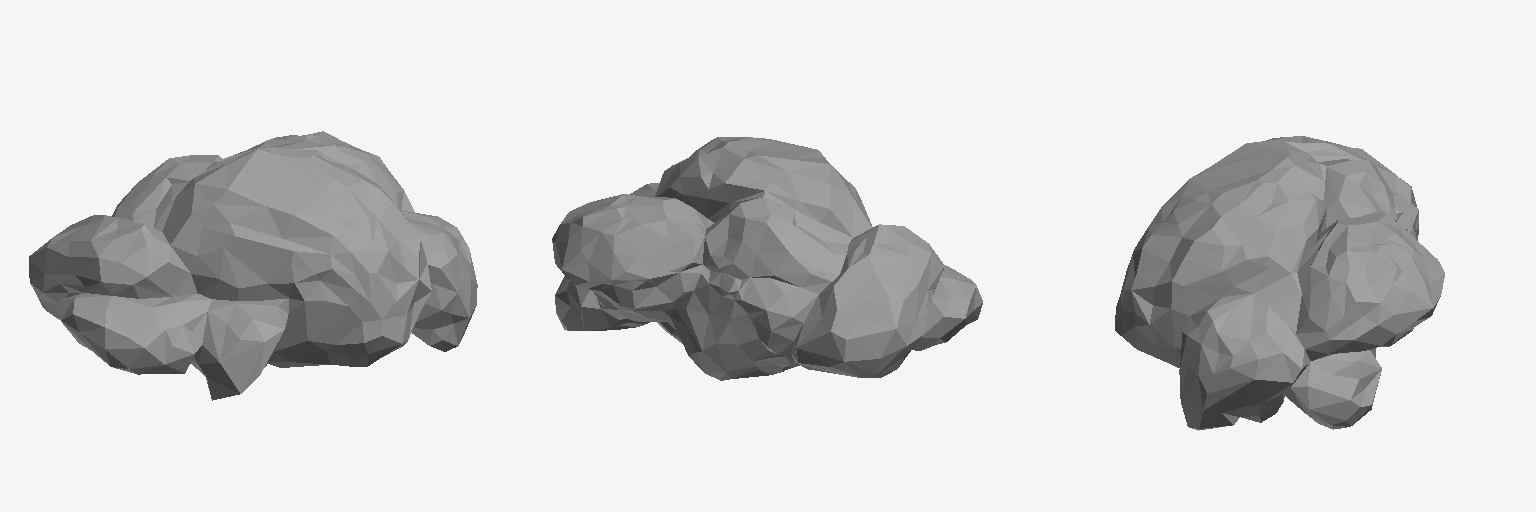
Rendered from beachRock2.obj.
3 views of the same model, side by side, from view 1: azimuth 30°, elevation 25°; view 2: azimuth 150°, elevation 25°; view 3: azimuth 270°, elevation 25° (orthographic).
Parts seen in each view (by area): view 1: rocks_02; view 2: rocks_02; view 3: rocks_02.
Part boxes in pixels (bbox=[...]): rocks_02: bbox=[29, 131, 477, 400]; rocks_02: bbox=[552, 137, 982, 380]; rocks_02: bbox=[1115, 136, 1444, 430].
Size of the model in its own units: 136 by 67.57 by 98.91.